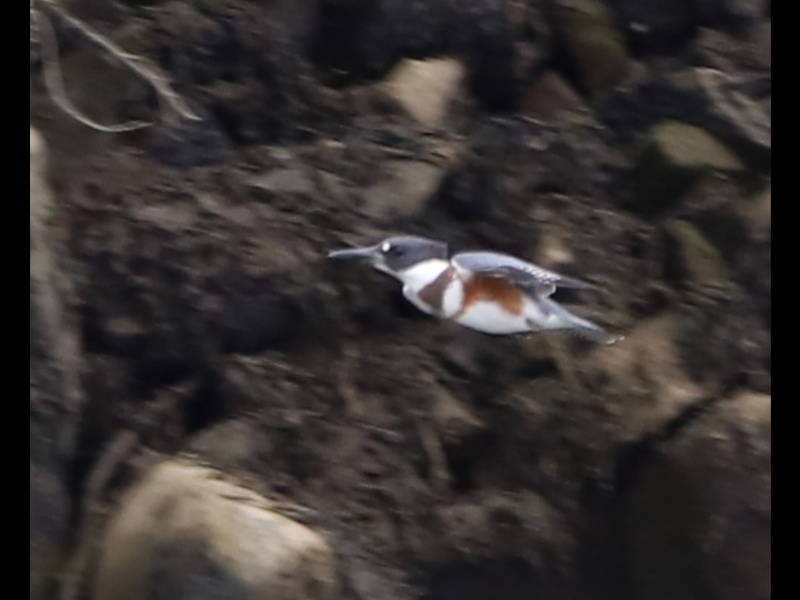kingfisher: (328, 232, 622, 347)
